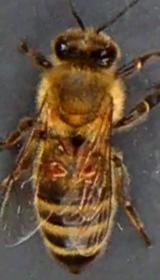varroa_mite: (38, 160, 66, 182)
